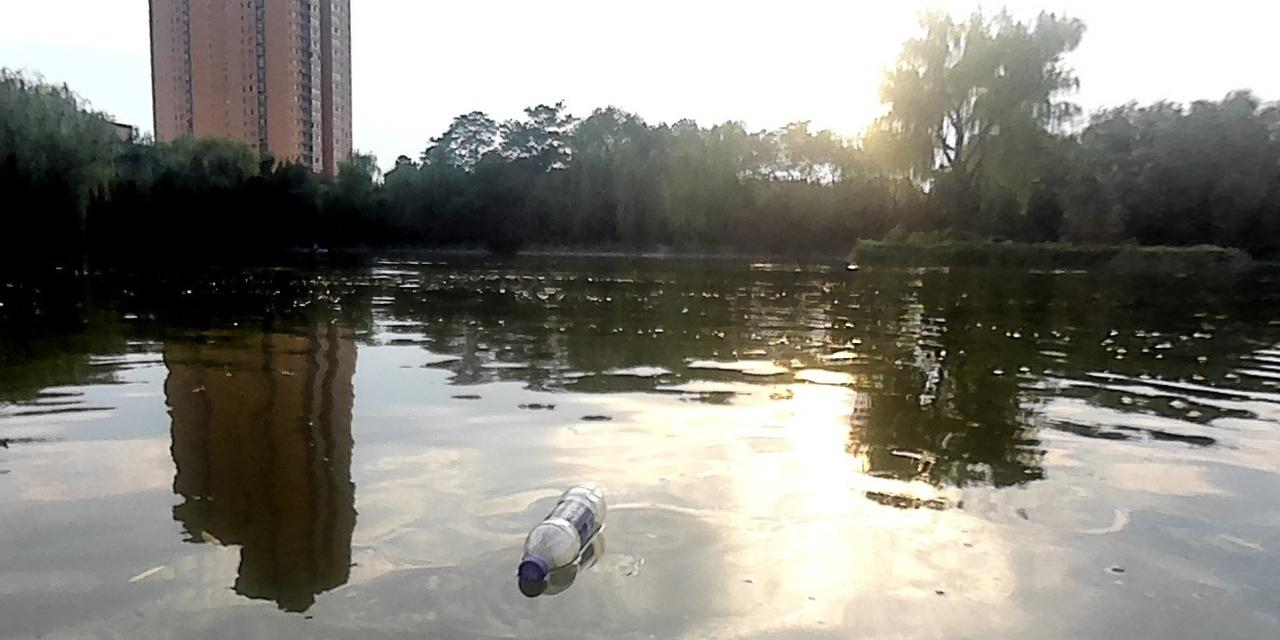bottle: (513, 479, 607, 585)
